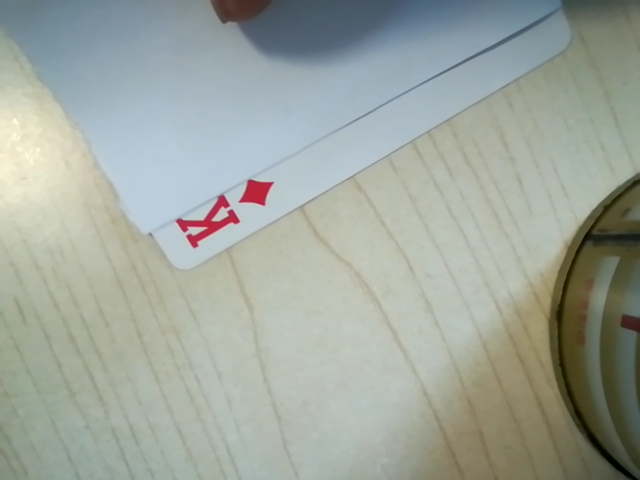fk k: (168, 175, 278, 250)
